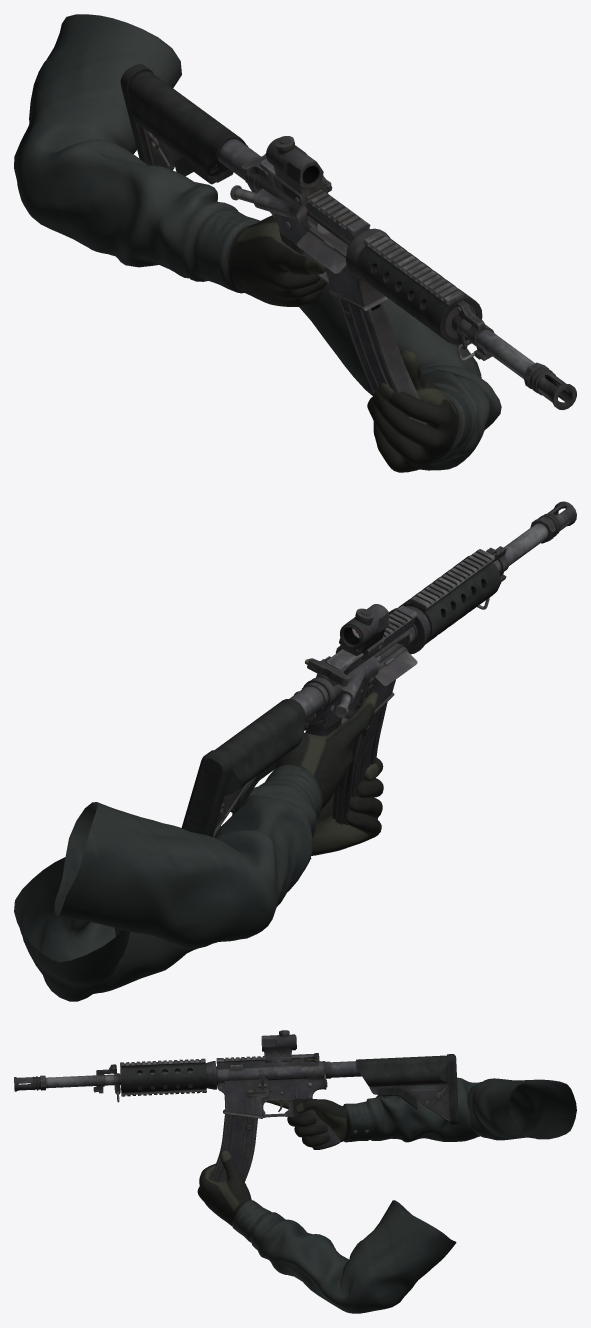
The model's file is carbine_000019.obj.
3 views of the same model, one above another, from view 1: azimuth 30°, elevation 25°; view 2: azimuth 150°, elevation 25°; view 3: azimuth 270°, elevation 25° (orthographic). The views are drawn at different scales.
Parts seen in each view (by area): view 1: armmesh_arms_0, base_carbine_0, clip_carbine_0, scope_carbine_0, lid_carbine_0; view 2: armmesh_arms_0, base_carbine_0, clip_carbine_0, scope_carbine_0, lid_carbine_0, handle_carbine_0; view 3: armmesh_arms_0, base_carbine_0, clip_carbine_0, scope_carbine_0.
Boxes of the visible parts, x1=… form: armmesh_arms_0: x1=14, y1=14, x2=501, y2=472; base_carbine_0: x1=120, y1=64, x2=576, y2=410; clip_carbine_0: x1=338, y1=293, x2=426, y2=424; scope_carbine_0: x1=266, y1=136, x2=332, y2=206; lid_carbine_0: x1=296, y1=231, x2=346, y2=274; armmesh_arms_0: x1=14, y1=692, x2=383, y2=1001; base_carbine_0: x1=181, y1=501, x2=576, y2=836; clip_carbine_0: x1=332, y1=702, x2=387, y2=824; scope_carbine_0: x1=335, y1=604, x2=388, y2=660; lid_carbine_0: x1=373, y1=650, x2=417, y2=686; handle_carbine_0: x1=307, y1=656, x2=349, y2=686; armmesh_arms_0: x1=197, y1=1077, x2=576, y2=1313; base_carbine_0: x1=14, y1=1054, x2=458, y2=1149; clip_carbine_0: x1=210, y1=1114, x2=257, y2=1181; scope_carbine_0: x1=261, y1=1030, x2=296, y2=1063.
Bounding box in the file's own units: 49.7 × 56.33 × 128.
Materials: 3 (3 with a texture image).
